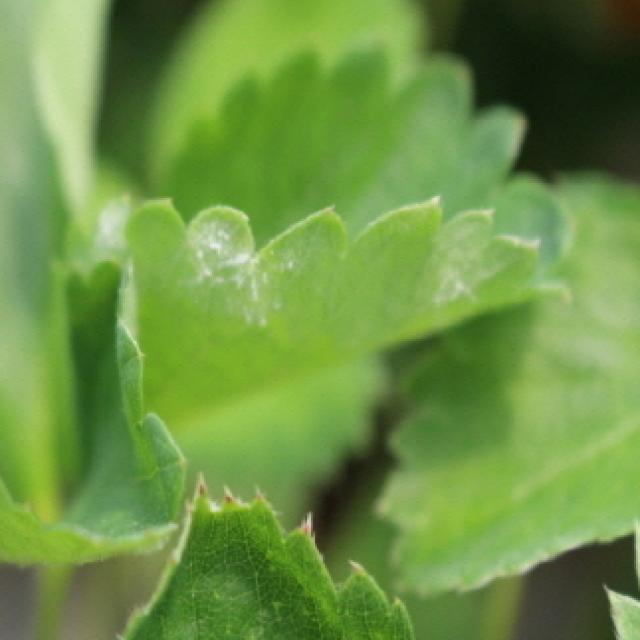Powdery Mildew Leaf: (122, 195, 578, 427)
